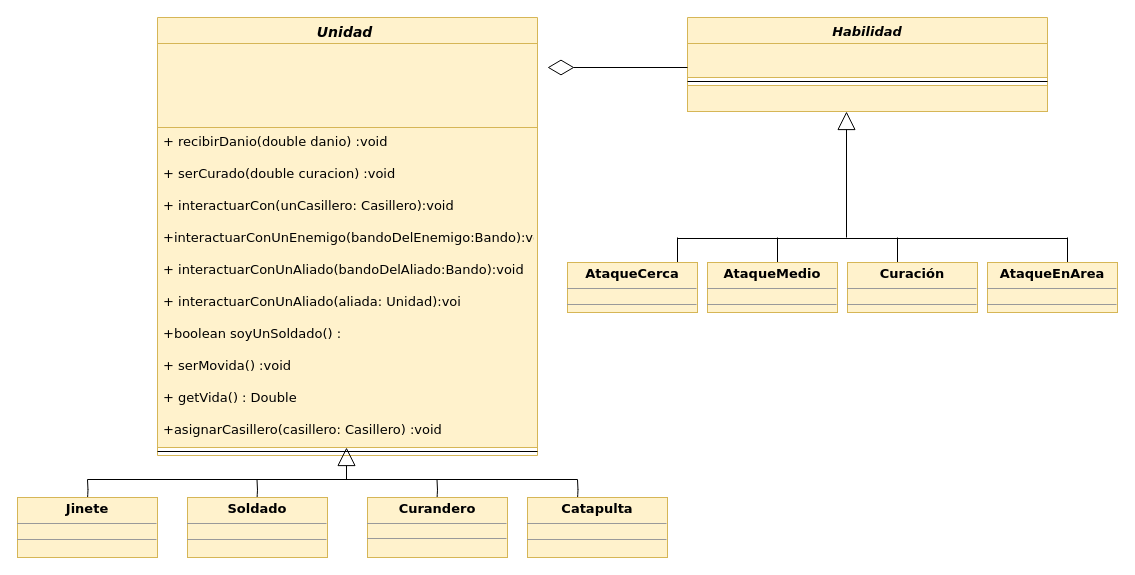
The diagram is 1135 pixels wide and 575 high, and some of its shapes have lost their labels. The shapes that lost their labels are listed below. From the top down, each one's centre as x and y in pixels, then its label:
At (867,60): "- poder: Double - alcance: Alcance".
At (347,85): "- vida: Double -bando: Bando -costo: Int -casillero: Casillero".
At (867,98): "+ usarHabilidadCon(unCasillero: Casillero, distancia: Double)".
